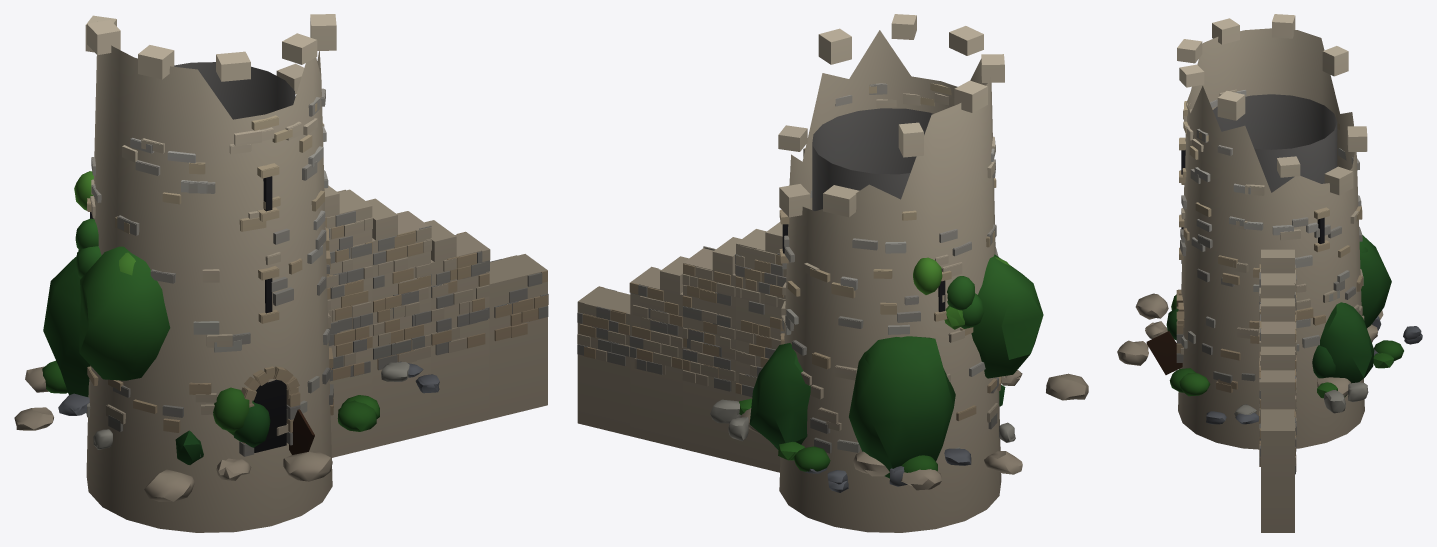
File: Tower_Ruin.fbx
The picture shows the model from 3 angles, left to right: view 1: azimuth 30°, elevation 25°; view 2: azimuth 150°, elevation 25°; view 3: azimuth 270°, elevation 25°; orthographic projection. The views are drawn at different scales.
Parts seen in each view (by area): view 1: Tower_Ruin_LOD0; view 2: Tower_Ruin_LOD0; view 3: Tower_Ruin_LOD0.
Part boxes in pixels (x1=…): Tower_Ruin_LOD0: x1=14, y1=14, x2=548, y2=532; Tower_Ruin_LOD0: x1=577, y1=14, x2=1088, y2=532; Tower_Ruin_LOD0: x1=1117, y1=14, x2=1422, y2=532.
Size of what is drawn, in the model's own units: 20.55 by 18.5 by 14.38.
Materials: 1 (1 with a texture image).
